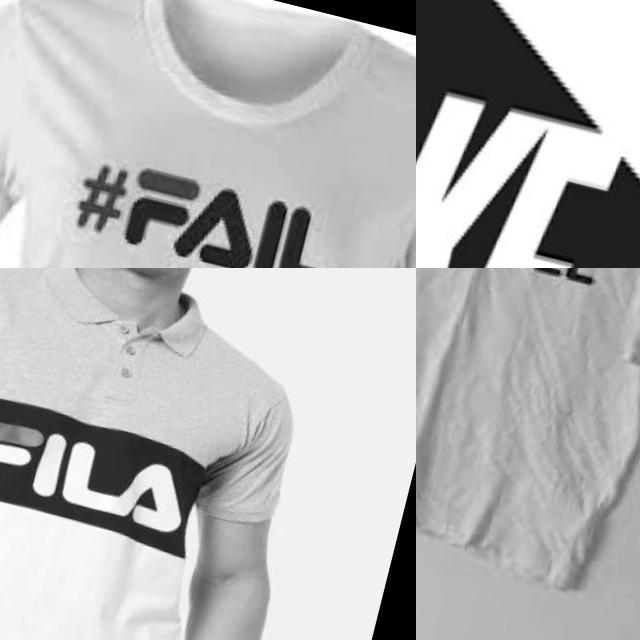FILA_fake: (56, 131, 358, 268), (416, 268, 611, 309)
FILA_original: (0, 377, 212, 562)
NIKE_fake: (416, 0, 640, 268)
